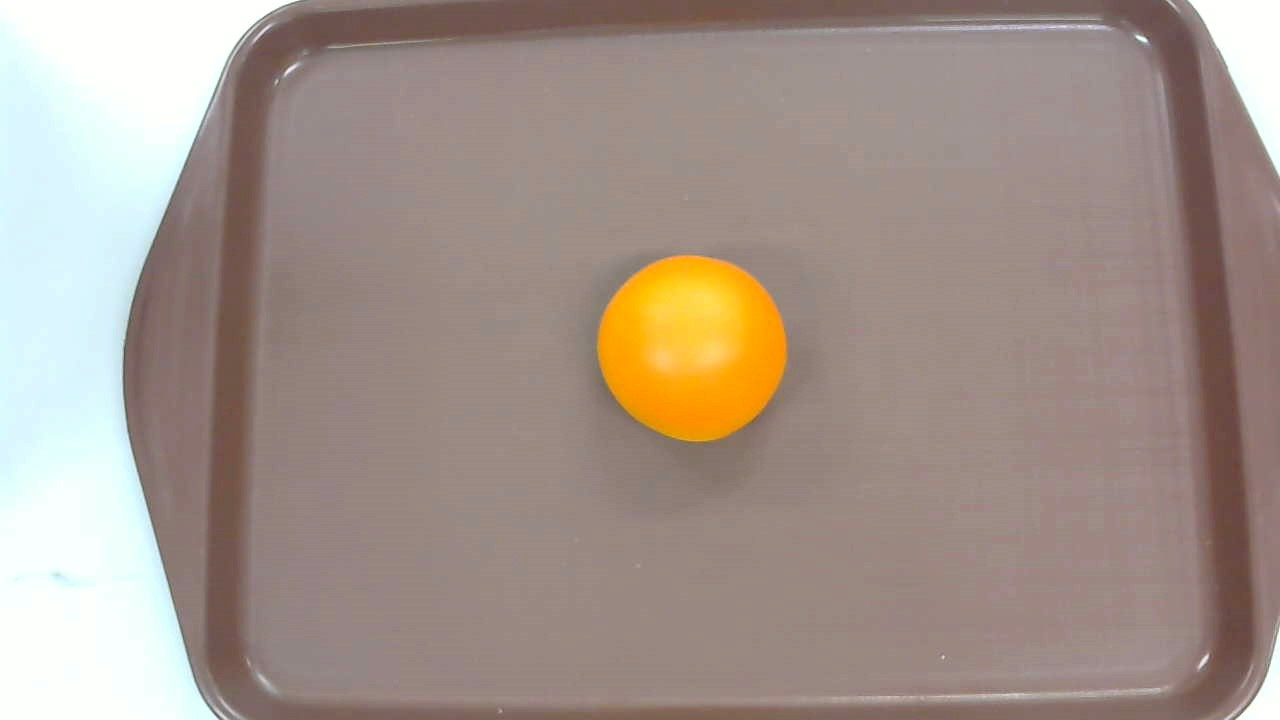bun: (597, 254, 787, 445)
